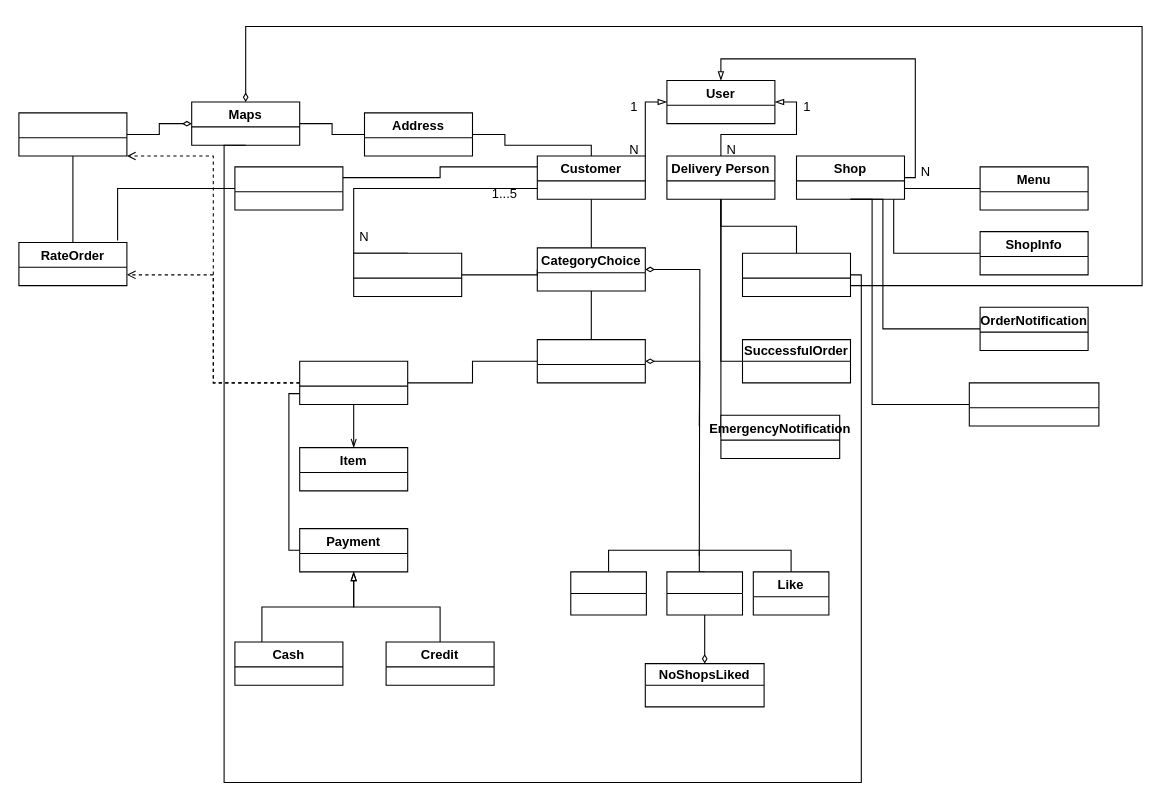
Image size: 1170x802. Some labels were removed from this diagram. The shapes that lost their labels are listed below. From the top down, each one's centre as x and y in pixels, then its label:
At point 72,134: "TrackOrder".
At point 288,188: "History".
At point 407,274: "Room".
At point 795,274: "FindAddress".
At point 590,361: "ShopChoice".
At point 353,382: "Order".
At point 1033,404: "DeliveryAssignment".
At point 608,593: "Superlike".
At point 704,593: "Dislike".
